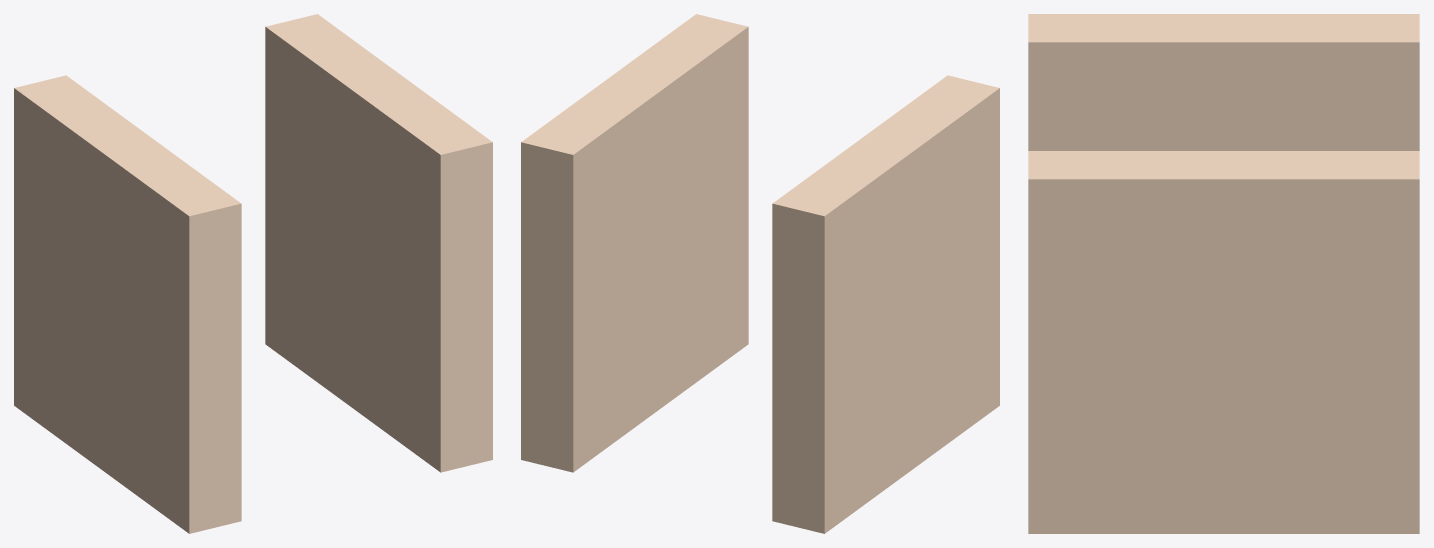
Rendered from Abstract_Castle_Block_Single_DualWall_Cream_01.fbx.
The picture shows the model from 3 angles, left to right: view 1: azimuth 30°, elevation 25°; view 2: azimuth 150°, elevation 25°; view 3: azimuth 270°, elevation 25°; orthographic projection. The views are drawn at different scales.
Visible parts, largest first — view 1: Model; view 2: Model; view 3: Model.
Part boxes in pixels (<box>): Model: <box>14,14,492,533</box>; Model: <box>521,14,999,533</box>; Model: <box>1028,14,1419,533</box>.
Bounding box in the file's own units: 1000 × 1000 × 1000.
